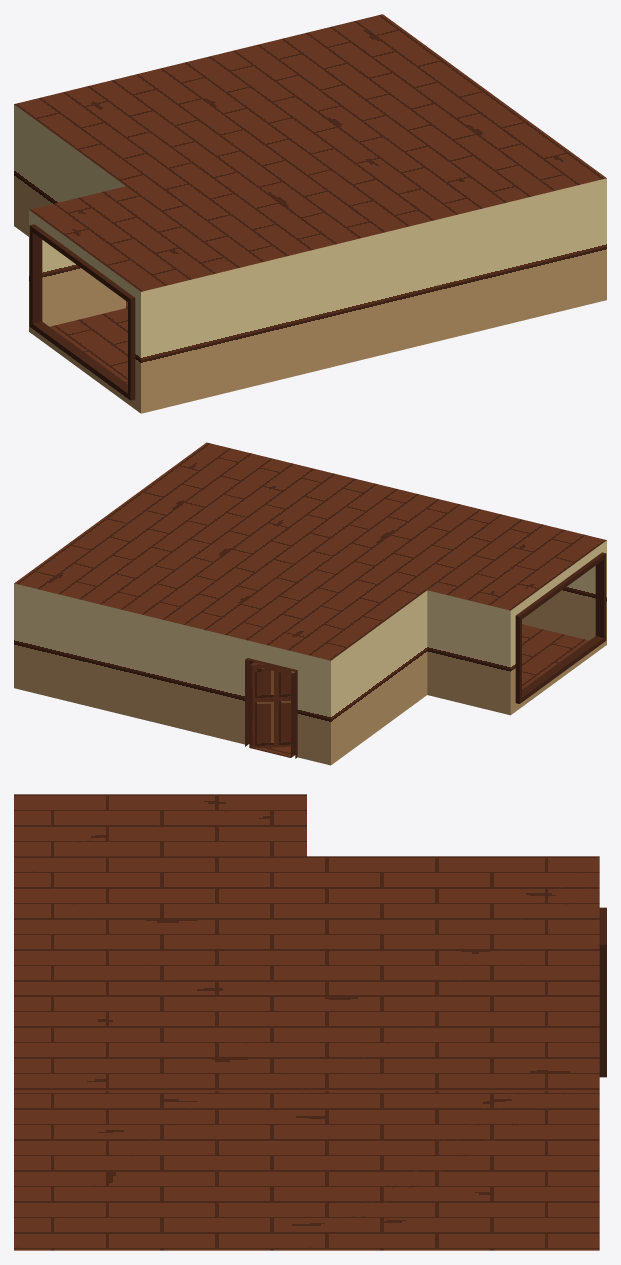
File: house.glb
3 views of the same model, one above another, from view 1: azimuth 30°, elevation 25°; view 2: azimuth 150°, elevation 25°; view 3: azimuth 270°, elevation 25° (orthographic). The views are drawn at different scales.
Visible parts, largest first — view 1: House; view 2: House, Door; view 3: House.
Part boxes in pixels (bbox=[...]): House: bbox=[14, 14, 606, 413]; House: bbox=[14, 442, 606, 765]; Door: bbox=[251, 663, 290, 748]; House: bbox=[14, 794, 606, 1250].
Bounding box in the file's own units: 24.25 × 6 × 20.25.
Materials: 2 (2 with a texture image).
